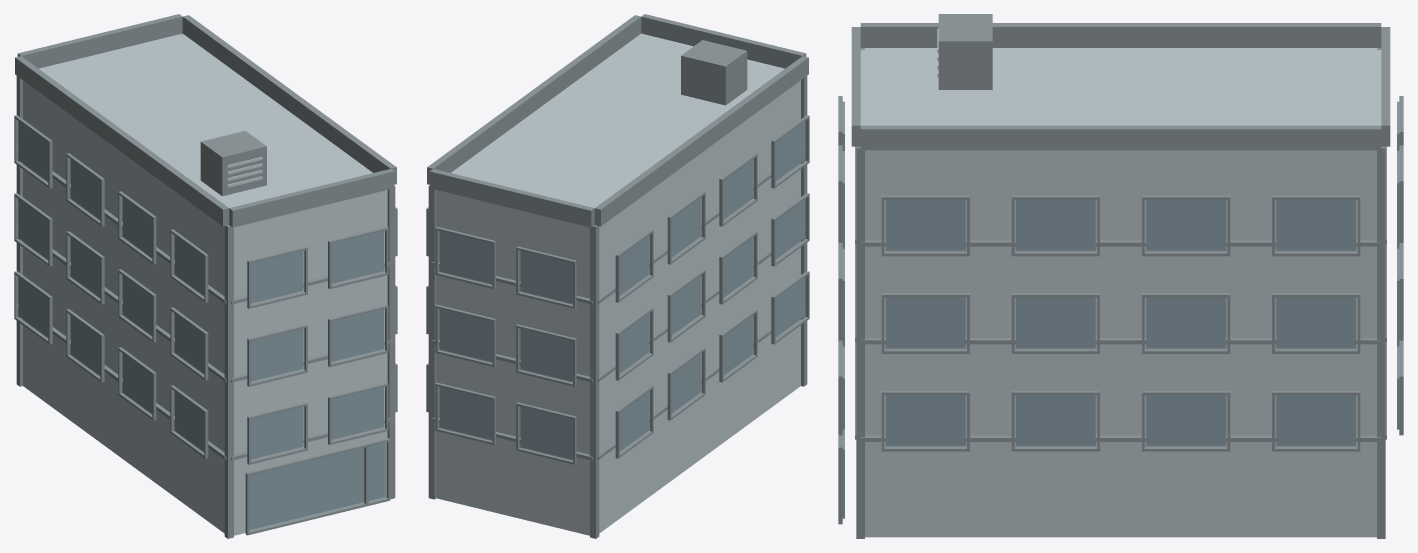
Rendered from lot_1x2_slab.glb.
The picture shows the model from 3 angles, left to right: view 1: azimuth 30°, elevation 25°; view 2: azimuth 150°, elevation 25°; view 3: azimuth 270°, elevation 25°; orthographic projection. The views are drawn at different scales.
Parts seen in each view (by area): view 1: lot_1x2_slab; view 2: lot_1x2_slab; view 3: lot_1x2_slab.
Boxes of the visible parts, x1,y1,x2,y2 form: lot_1x2_slab: (14,14,397,538); lot_1x2_slab: (426,14,809,538); lot_1x2_slab: (838,14,1403,538).
Bounding box in the file's own units: 7.74 × 13.5 × 15.74.
